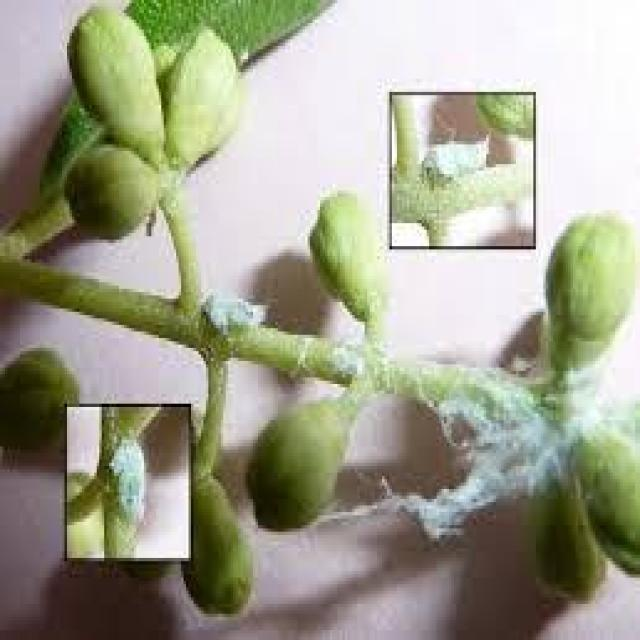Psyllid: (319, 341, 638, 556), (102, 407, 159, 551), (201, 289, 273, 346)
